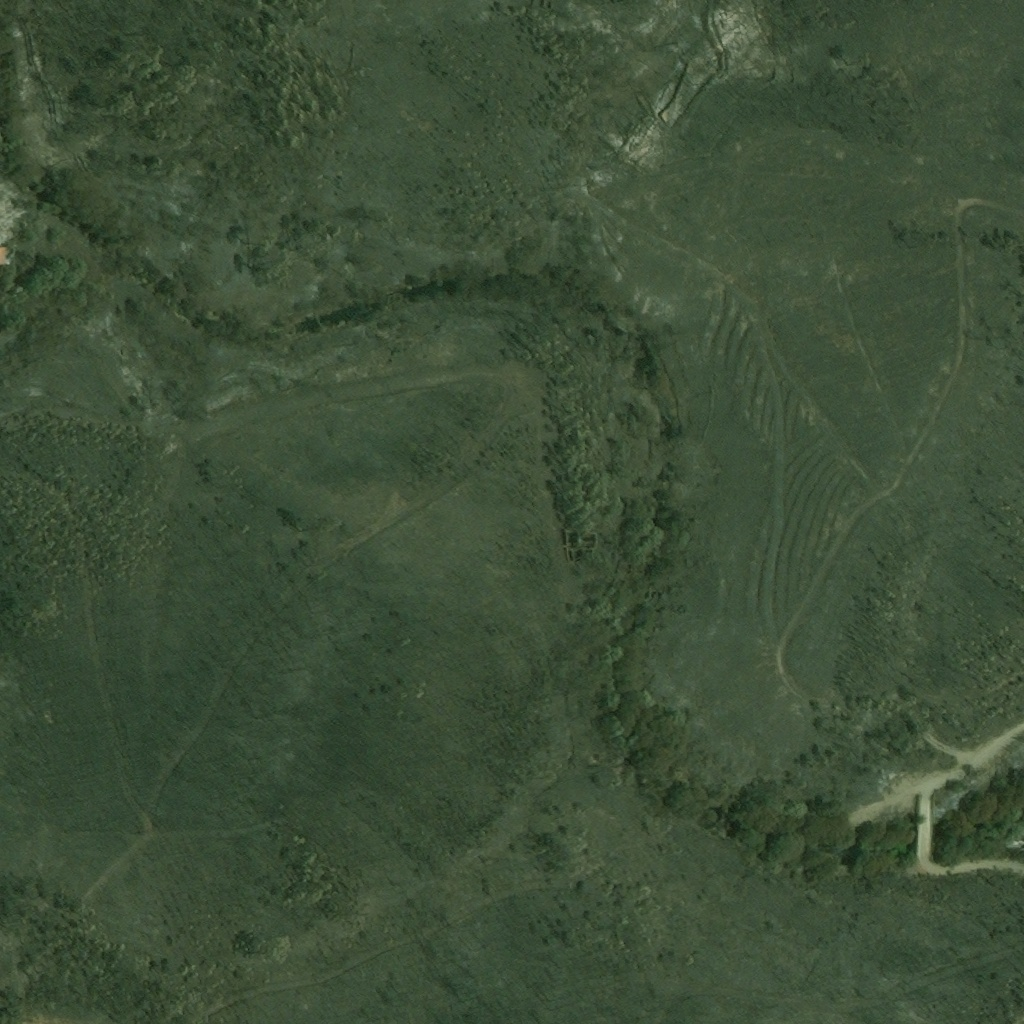4 un-classified: (0, 248, 6, 266)
